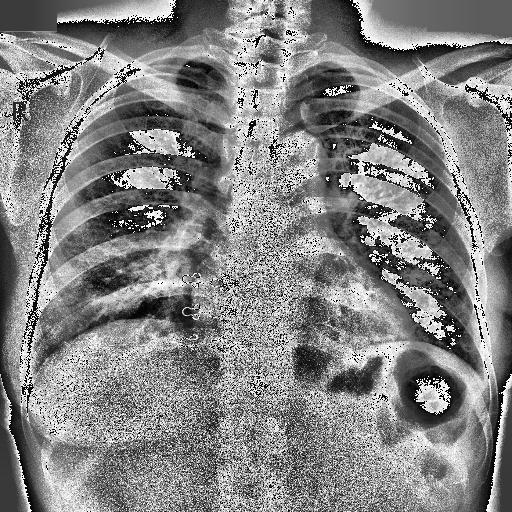5- ILD: (388, 172, 484, 361)
6- Infiltration: (32, 196, 208, 363), (386, 204, 484, 375), (98, 236, 202, 329)
9- Other lesion: (104, 206, 204, 322)
